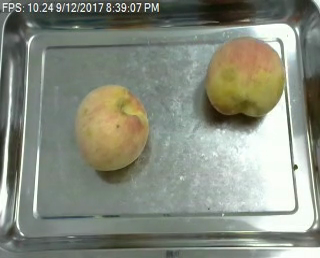Peach: (75, 83, 149, 172), (204, 36, 285, 117)
